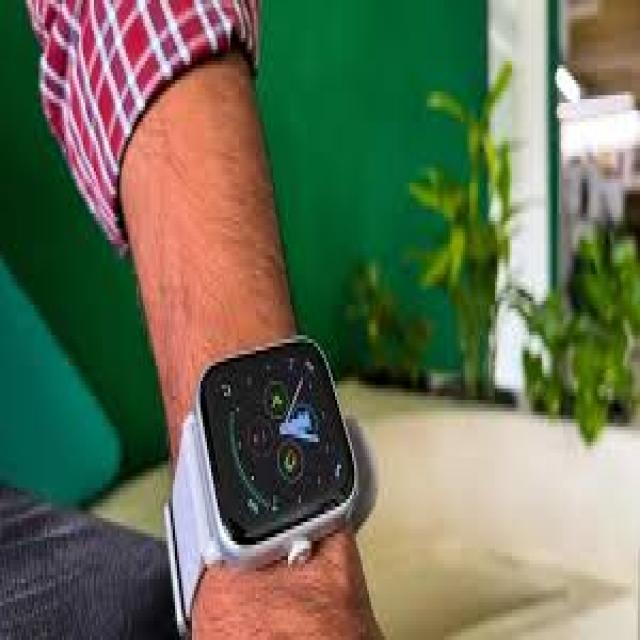objects: (164, 335, 380, 636)
